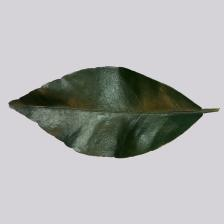healthy: (20, 71, 208, 144)
